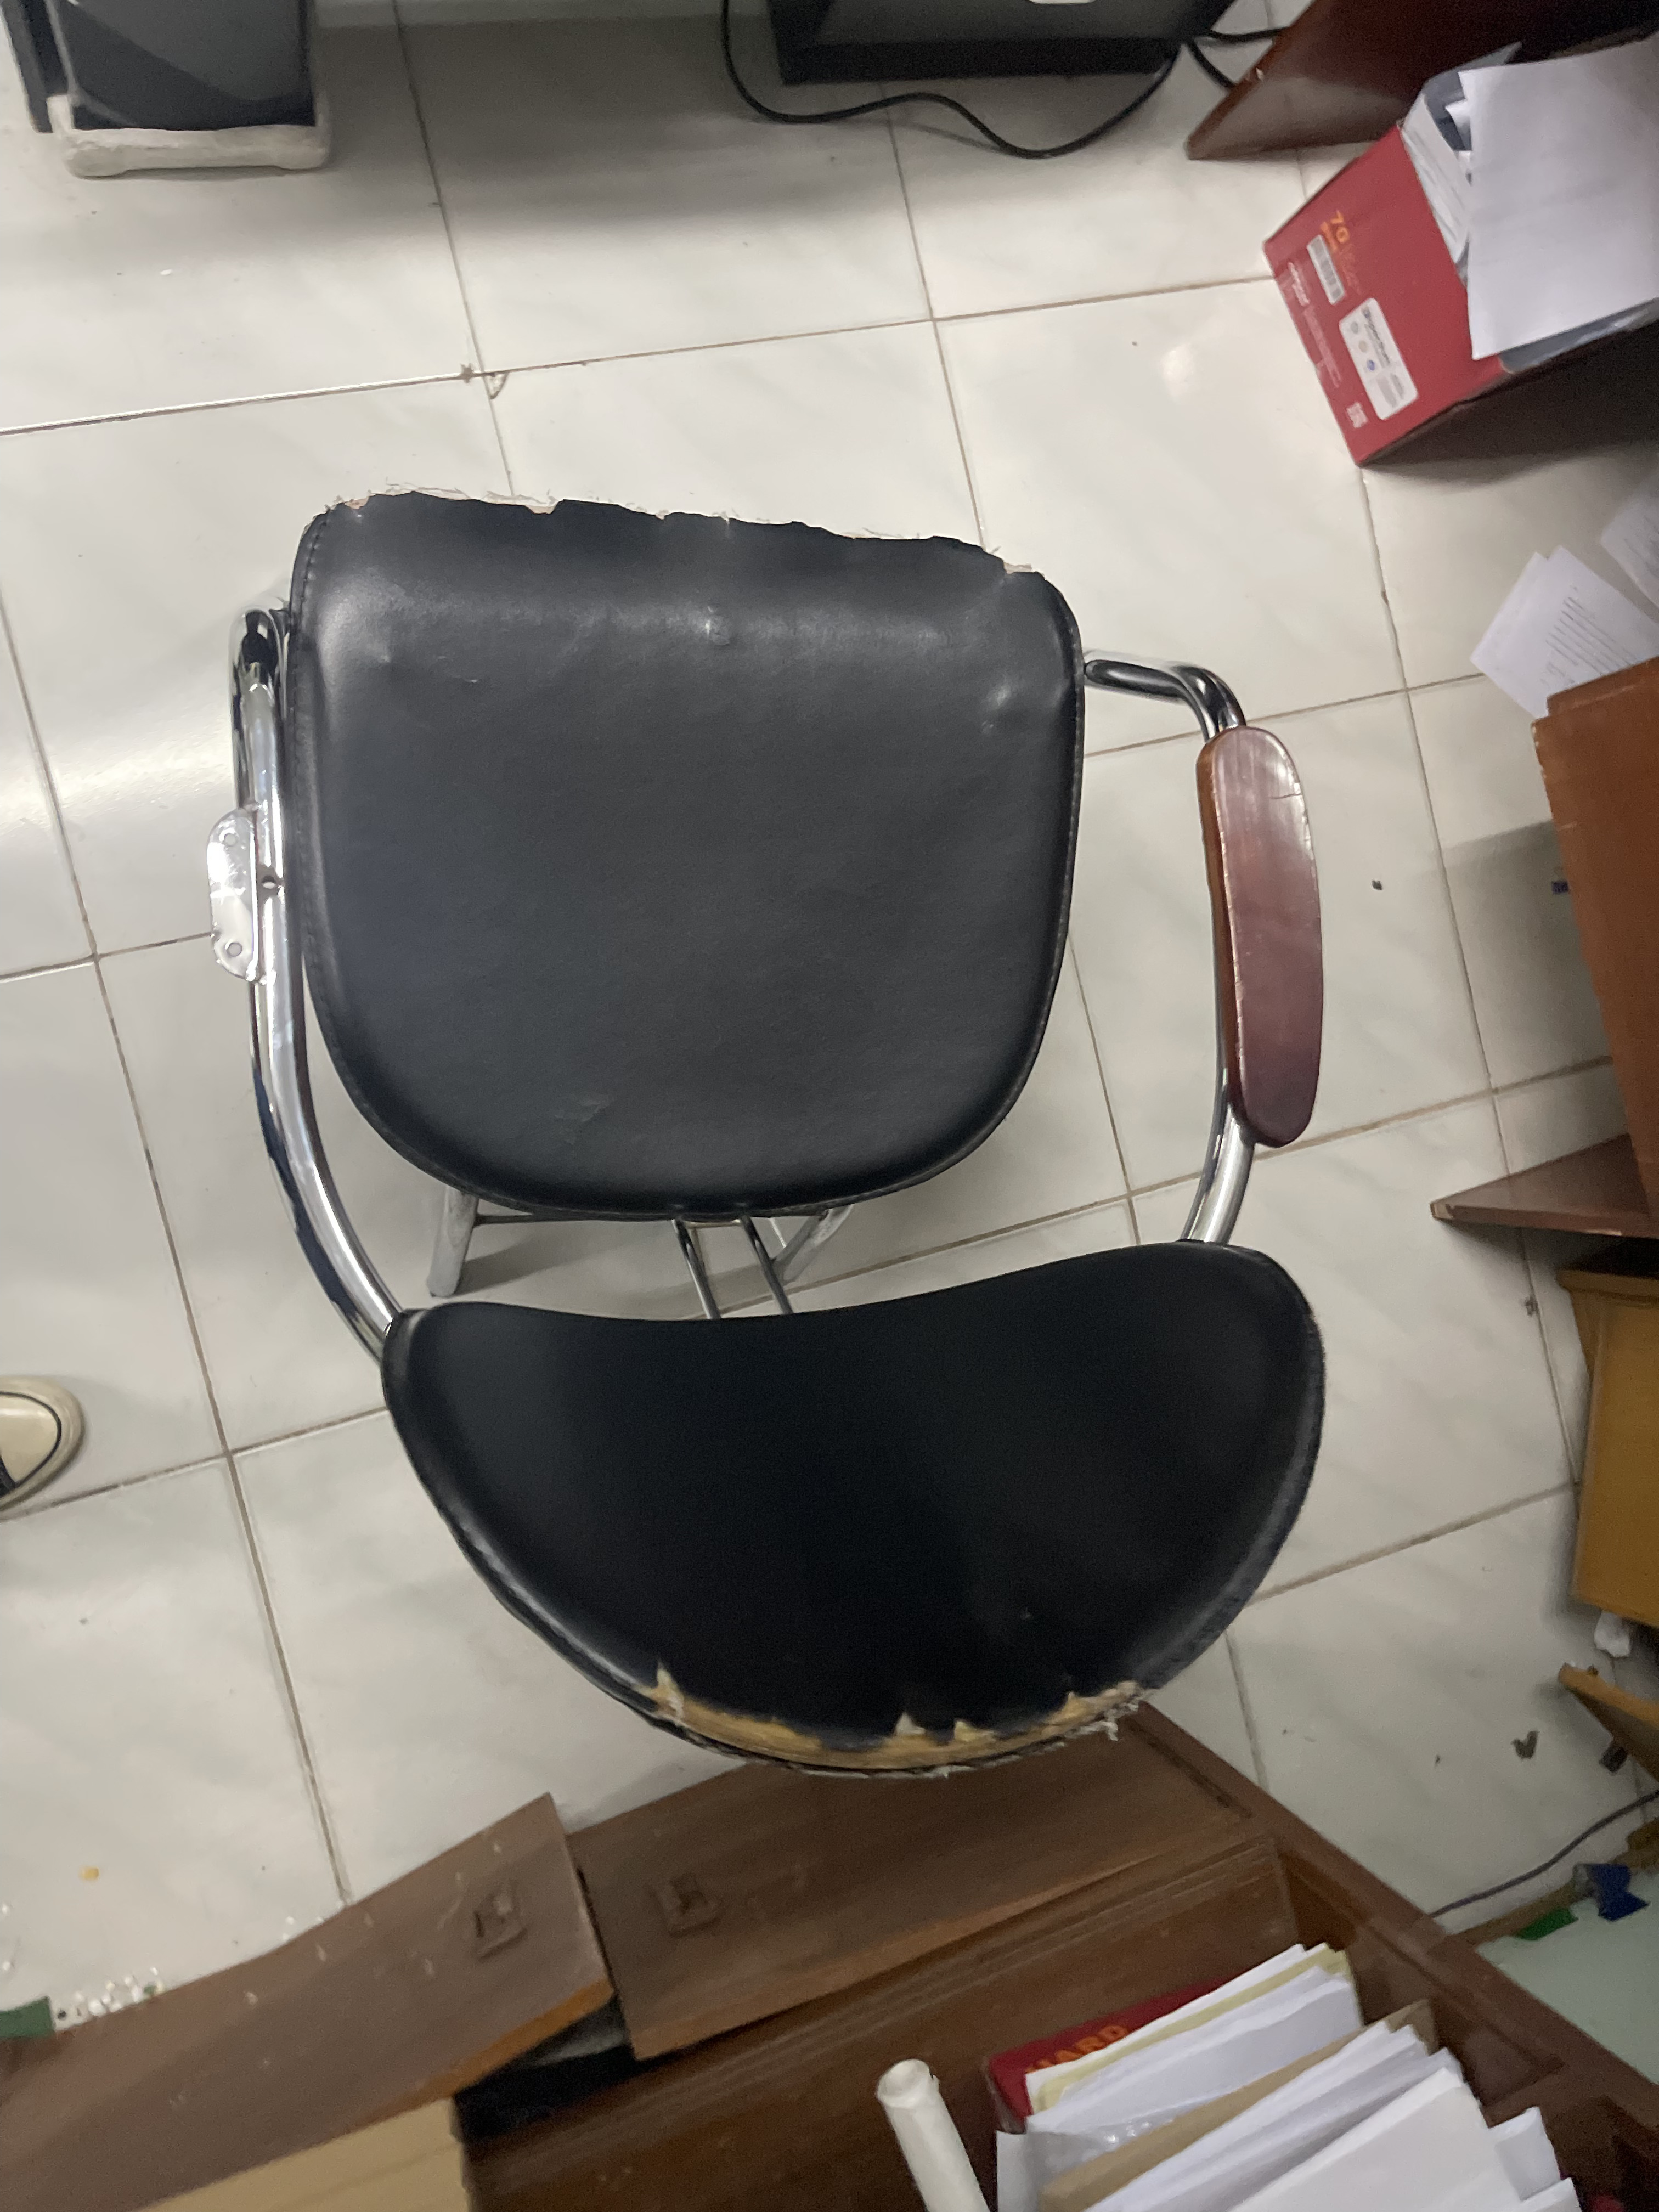chair1: (197, 479, 1328, 1789)
